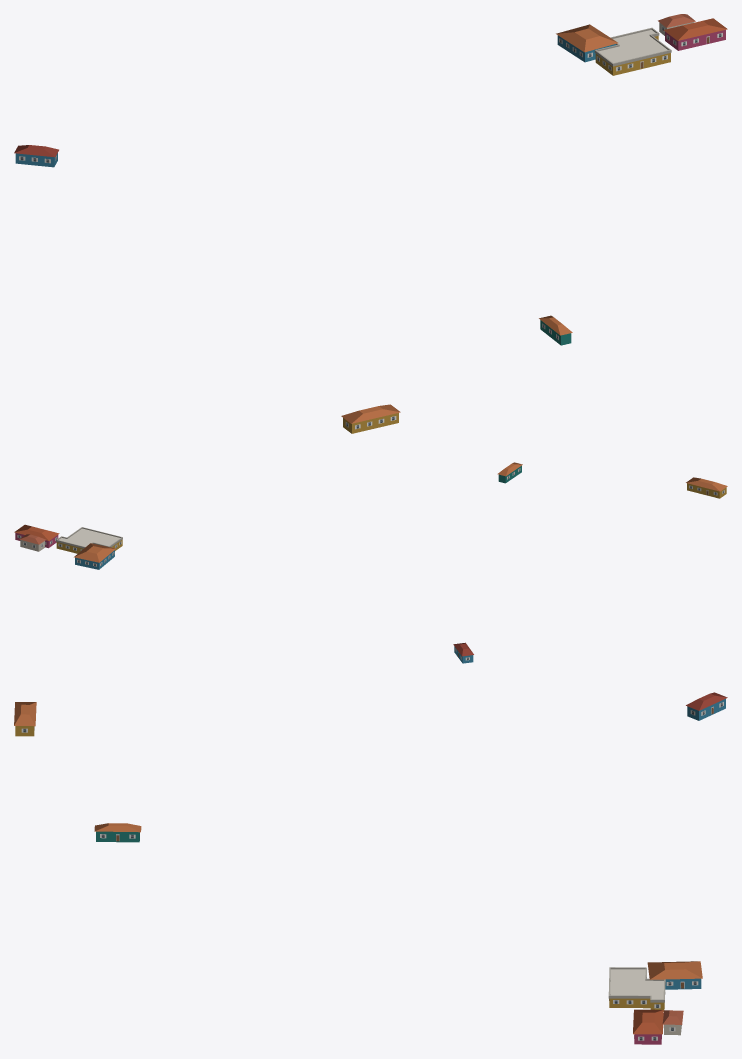
The model's file is msb_sannicolas_22_23.glb.
3 views of the same model, one above another, from view 1: azimuth 30°, elevation 25°; view 2: azimuth 150°, elevation 25°; view 3: azimuth 270°, elevation 25° (orthographic). The views are drawn at different scales.
Visible parts, largest first — view 1: msb_sannicolas_22_23_lod0; view 2: msb_sannicolas_22_23_lod0; view 3: msb_sannicolas_22_23_lod0.
Part boxes in pixels (bbox=[...]): msb_sannicolas_22_23_lod0: bbox=[14, 14, 727, 433]; msb_sannicolas_22_23_lod0: bbox=[14, 462, 727, 663]; msb_sannicolas_22_23_lod0: bbox=[14, 692, 727, 1044].
Size of what is drawn, in the model's own units: 232 by 9.95 by 208.
Materials: 3 (1 with a texture image).
